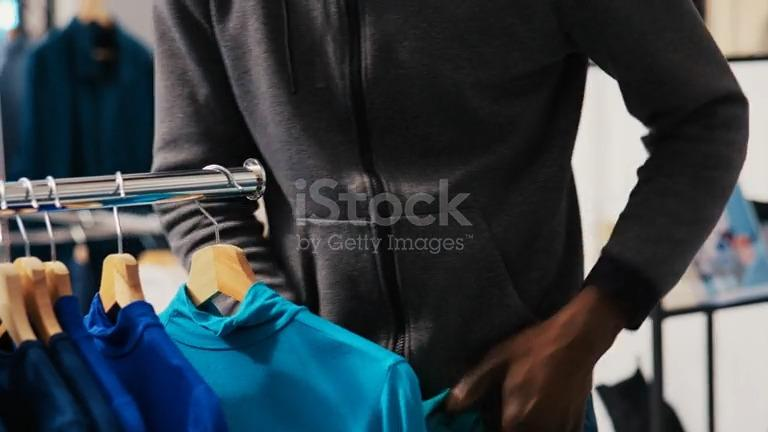Shoplifting: (149, 0, 748, 432)
